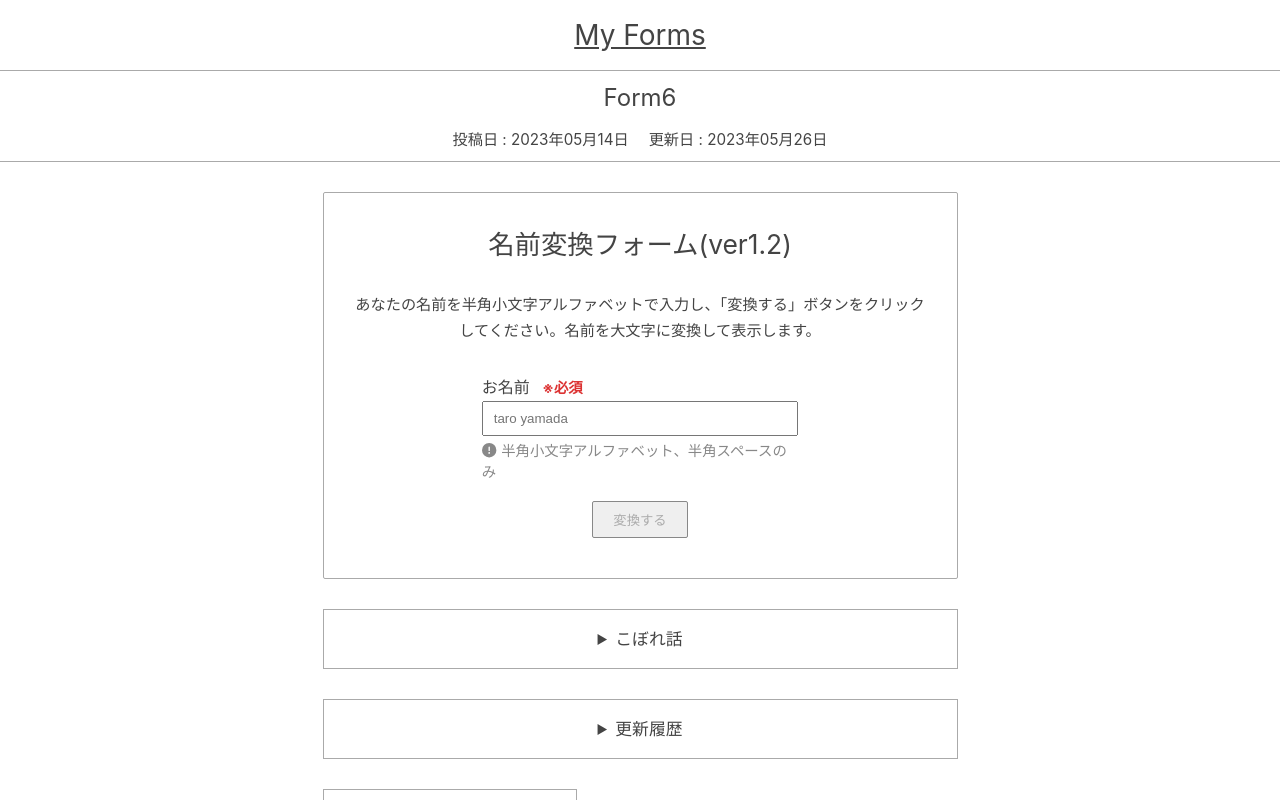
Test case: Form6 › フォームに名前を入力した時、各要素が正しい状態になること › 名前を正しくない形式で入力した時、エラーメッセージが表示されること
Type "kento111" into the field labelled "お名前 ※必須" at (640, 418), box [482, 401, 798, 436]
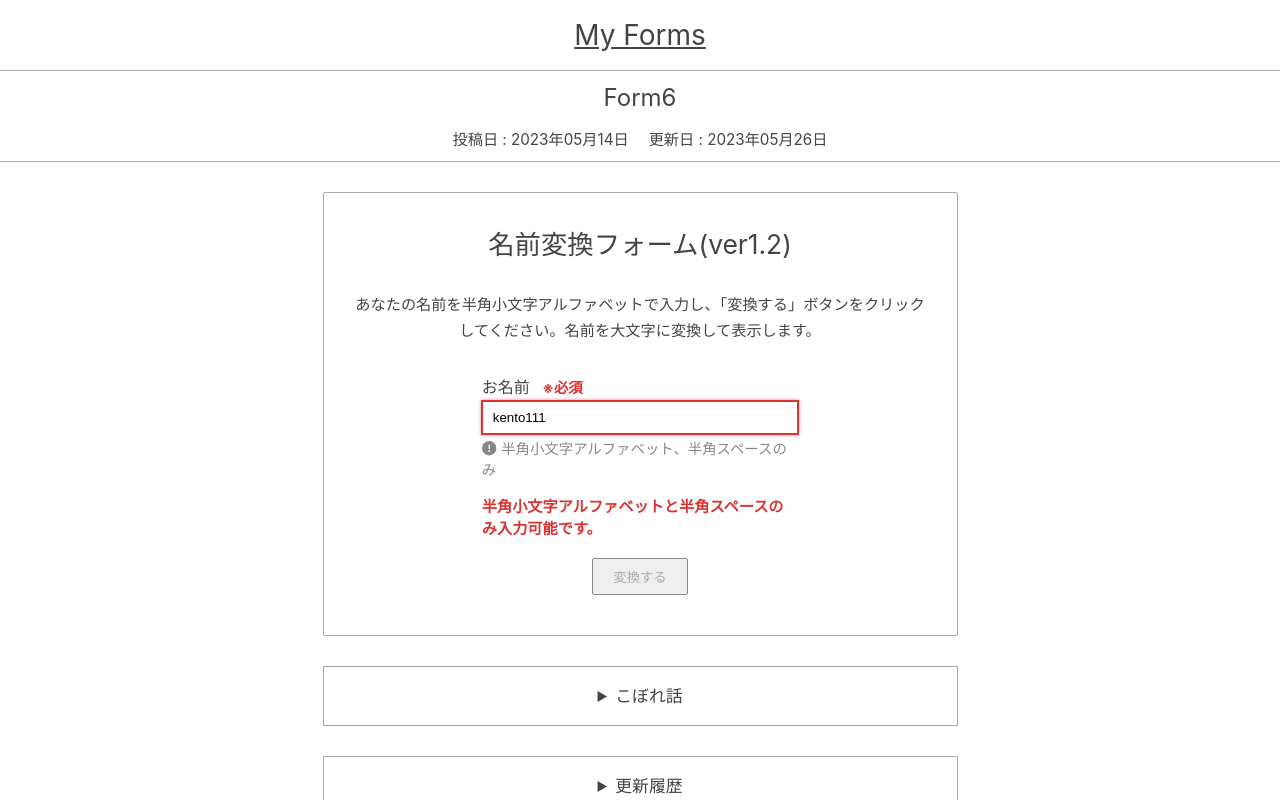
Check: the text "半角小文字アルファベットと半角スペースのみ入力可能です。" is shown, box [482, 494, 798, 538]
